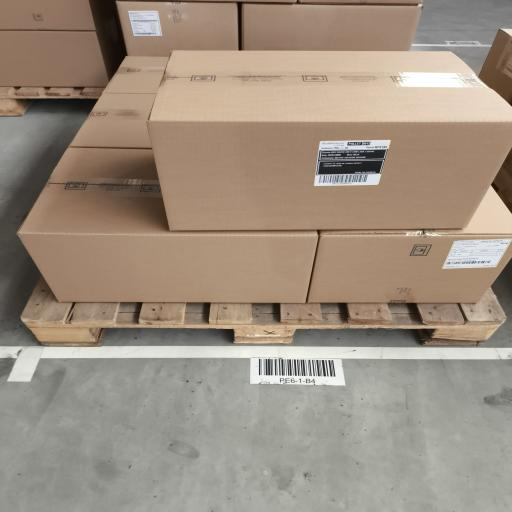pallet: (22, 278, 506, 346), (0, 87, 104, 116), (494, 168, 511, 211)
